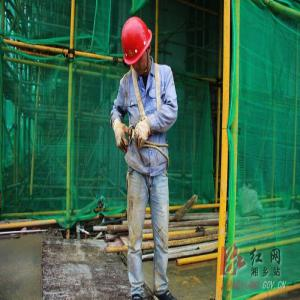red: (120, 16, 155, 76)
